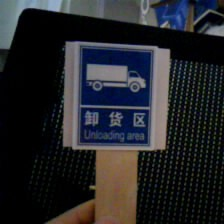unload: (63, 41, 170, 153)
